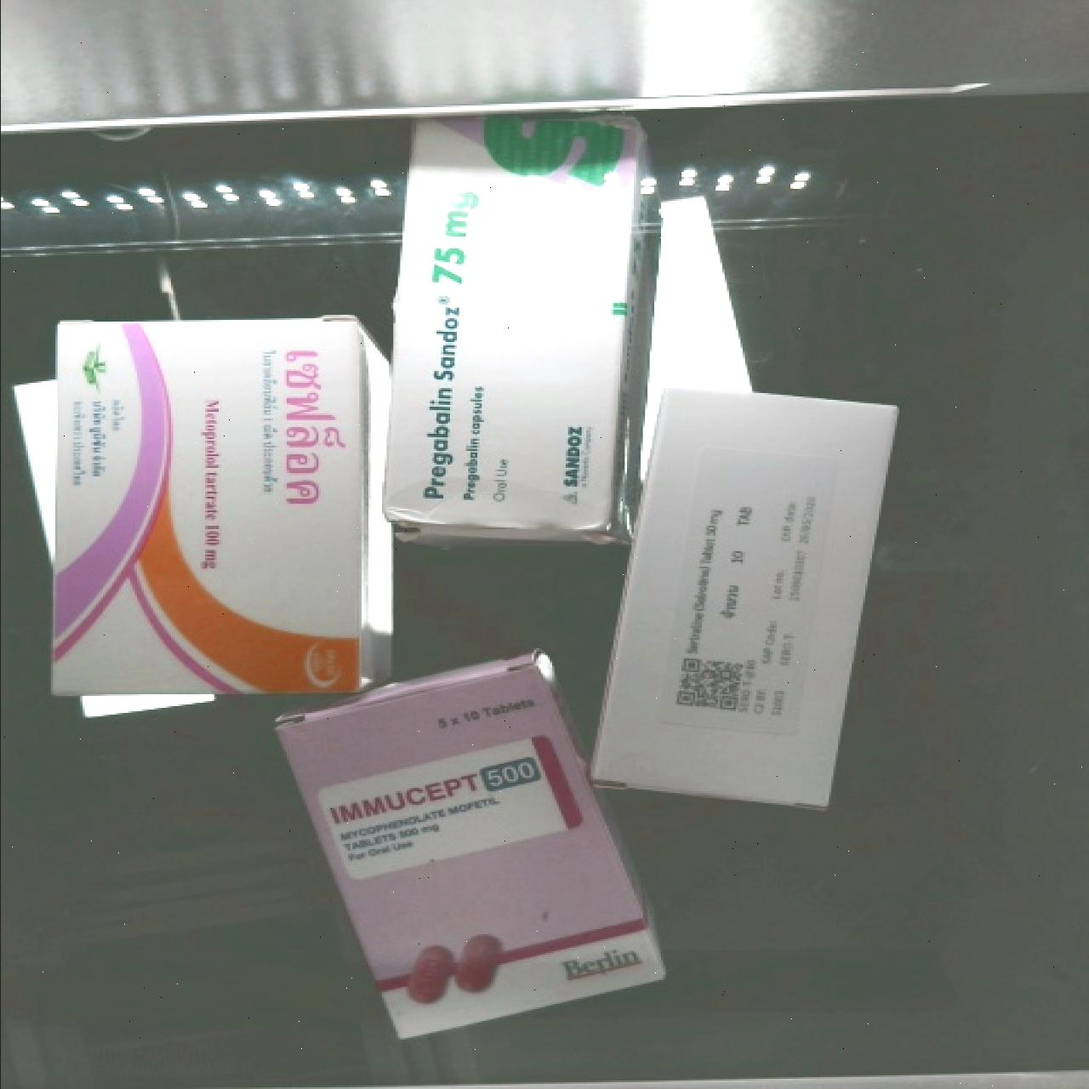medicine_label_obb: (400, 175, 499, 522), (312, 737, 560, 850), (256, 322, 355, 541)
qr_code: (656, 630, 763, 734)
